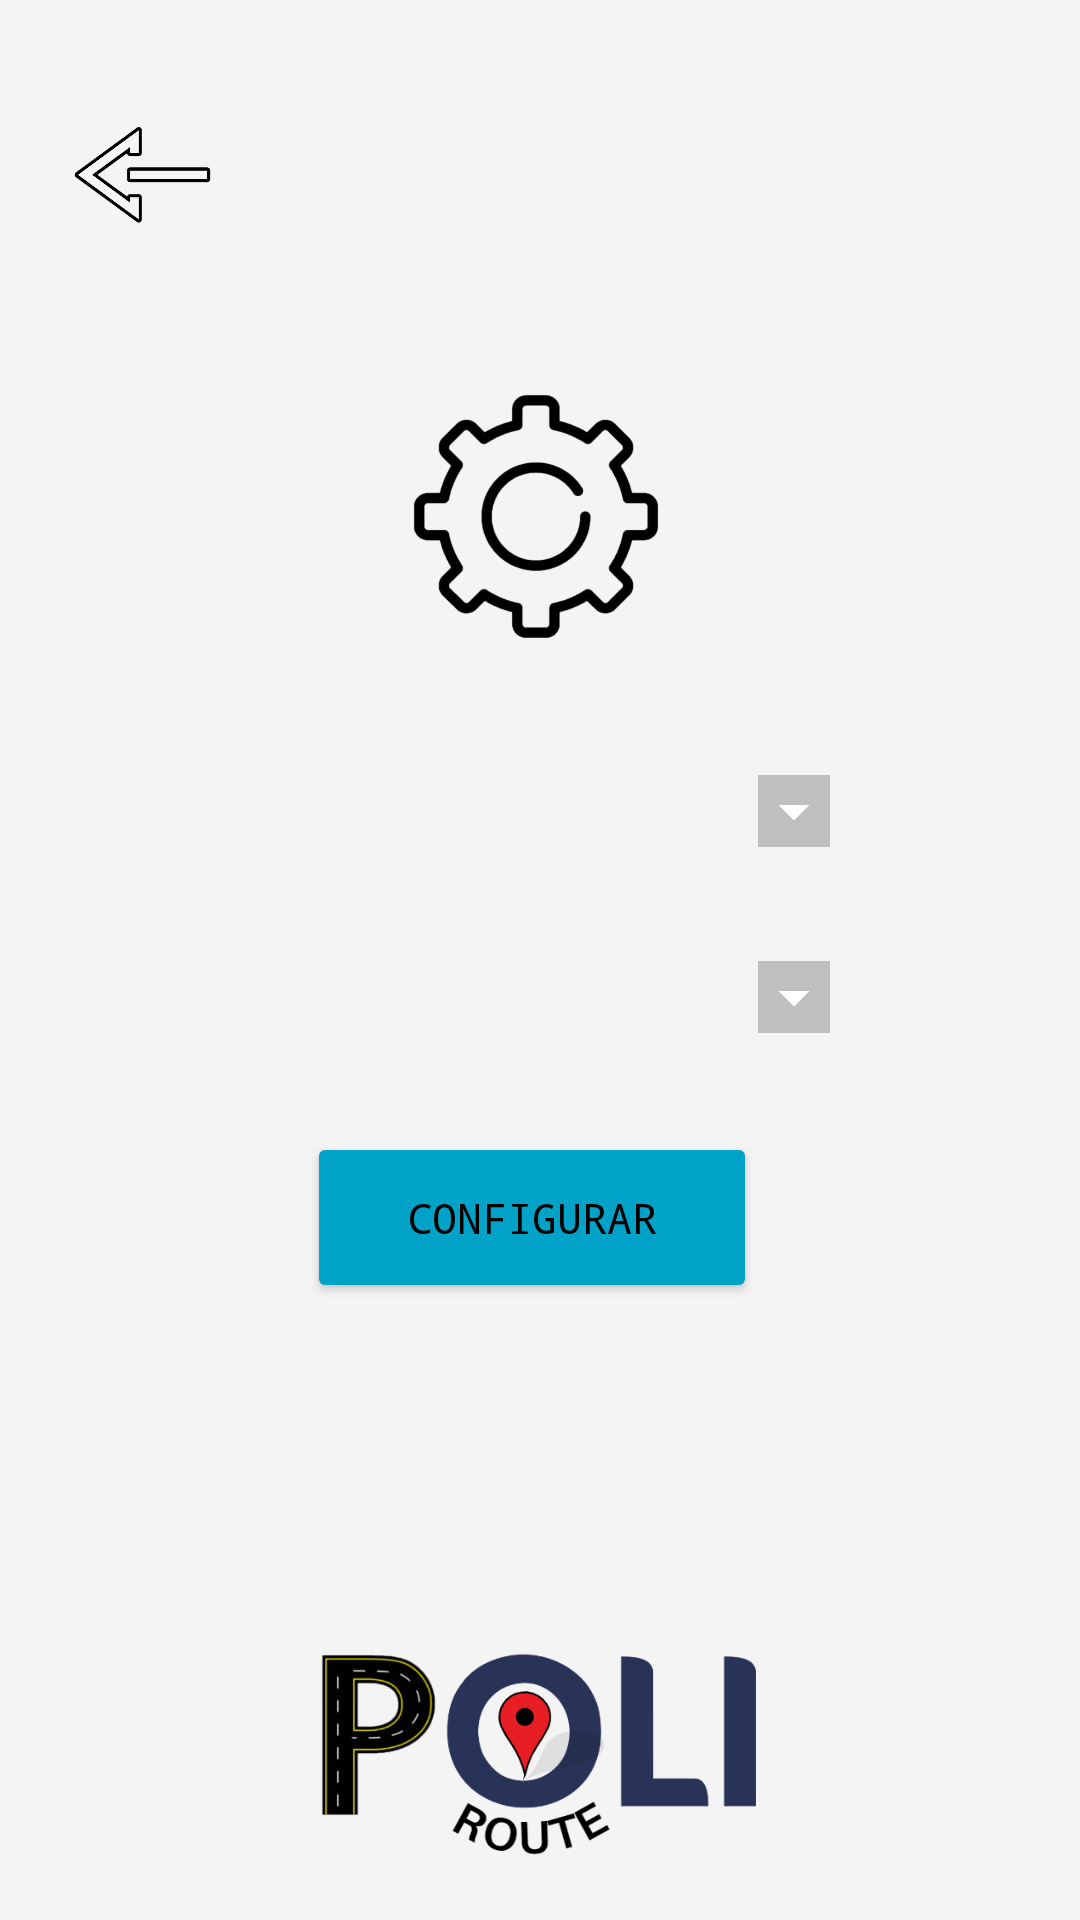

Locate icon controls on the screen. Image size 1080*1920, boxes as [left=x1, top=y1, right=x2, bottom=y2].
retroceso: [left=74, top=127, right=211, bottom=223]
